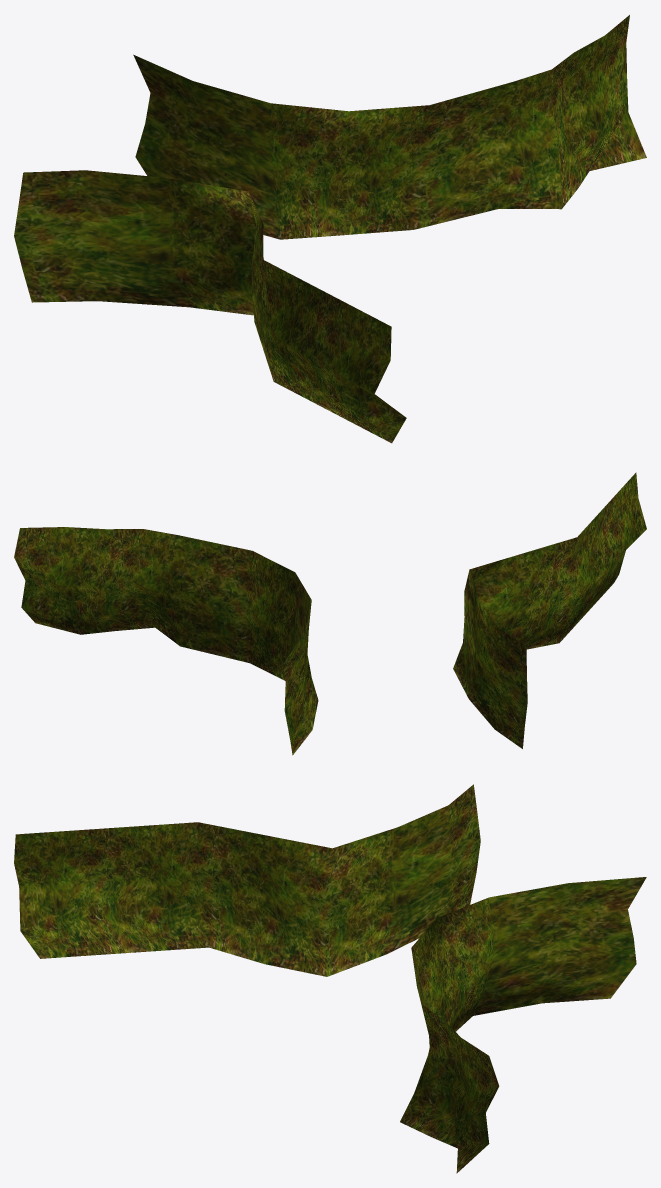
The model's file is TROLLHOLE02_ZRM_PSURF110.fbx.
The picture shows the model from 3 angles, top to bottom: view 1: azimuth 30°, elevation 25°; view 2: azimuth 150°, elevation 25°; view 3: azimuth 270°, elevation 25°; orthographic projection. The views are drawn at different scales.
Visible parts, largest first — view 1: TROLLHOLE02_ZRM_PSURF110; view 2: TROLLHOLE02_ZRM_PSURF110; view 3: TROLLHOLE02_ZRM_PSURF110.
Part boxes in pixels (x1,y1,x2,y2): TROLLHOLE02_ZRM_PSURF110: [14, 15, 646, 443]; TROLLHOLE02_ZRM_PSURF110: [14, 472, 646, 755]; TROLLHOLE02_ZRM_PSURF110: [14, 784, 646, 1173].
Size of the model in its own units: 150246 by 30791 by 145420.
1 material, 1 textured.
